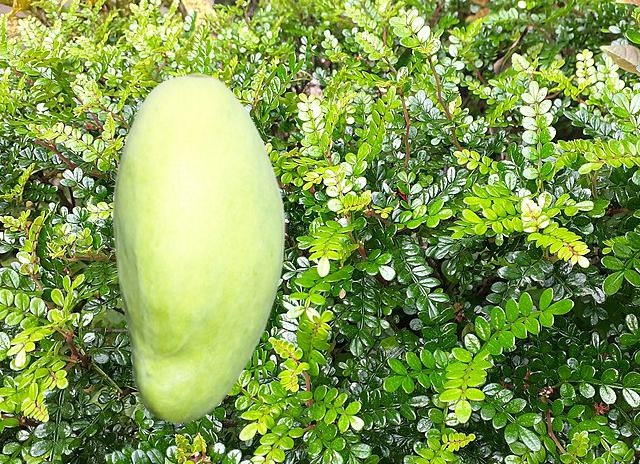green_mango: (112, 72, 284, 422)
